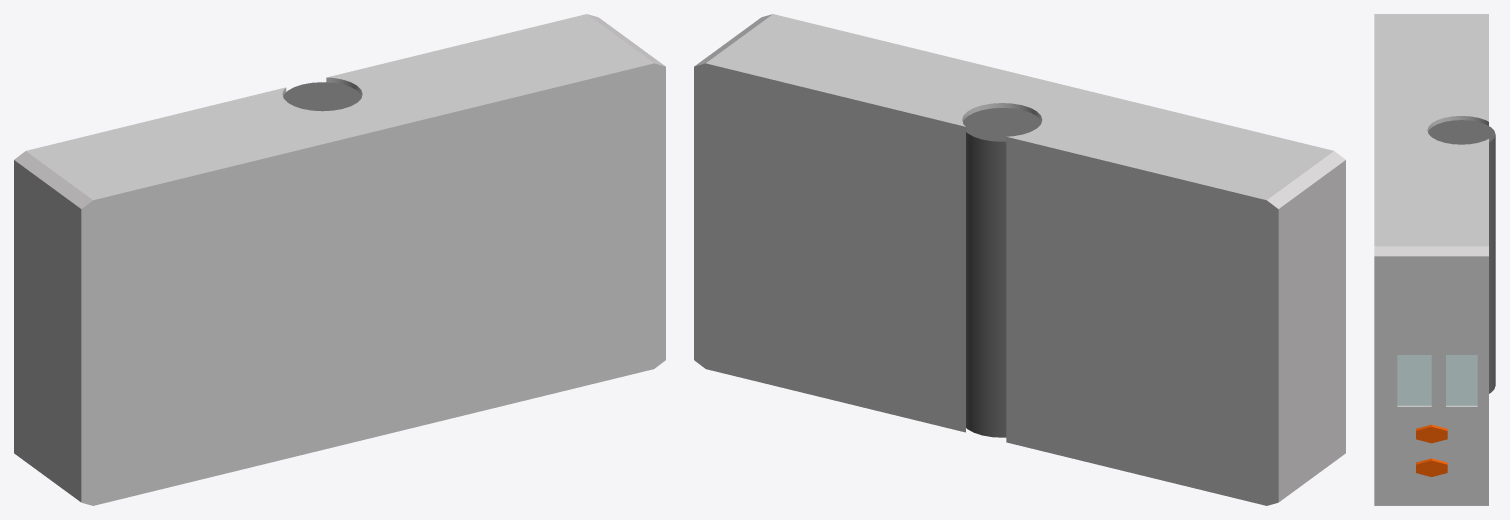
The model's file is roller_deck_agv.dae.
3 renders of one model, left to right at view 1: azimuth 30°, elevation 25°; view 2: azimuth 150°, elevation 25°; view 3: azimuth 270°, elevation 25°, orthographic. The views are drawn at different scales.
Visible parts, largest first — view 1: instance_0_001, instance_0; view 2: instance_0_001, instance_0; view 3: instance_0_001, instance_0, instance_0_008, instance_0_005, instance_0_007, instance_0_006.
Boxes of the visible parts, left/top/right/bottom form: instance_0_001: left=14, top=14, right=665, bottom=505; instance_0: left=283, top=82, right=361, bottom=111; instance_0_001: left=694, top=14, right=1345, bottom=505; instance_0: left=963, top=108, right=1041, bottom=437; instance_0_001: left=1374, top=14, right=1488, bottom=505; instance_0: left=1428, top=120, right=1495, bottom=393; instance_0_008: left=1397, top=355, right=1431, bottom=405; instance_0_005: left=1446, top=355, right=1477, bottom=405; instance_0_007: left=1416, top=424, right=1447, bottom=443; instance_0_006: left=1416, top=458, right=1447, bottom=476.
Bounding box in the file's own units: 397 × 197 × 83.27.
